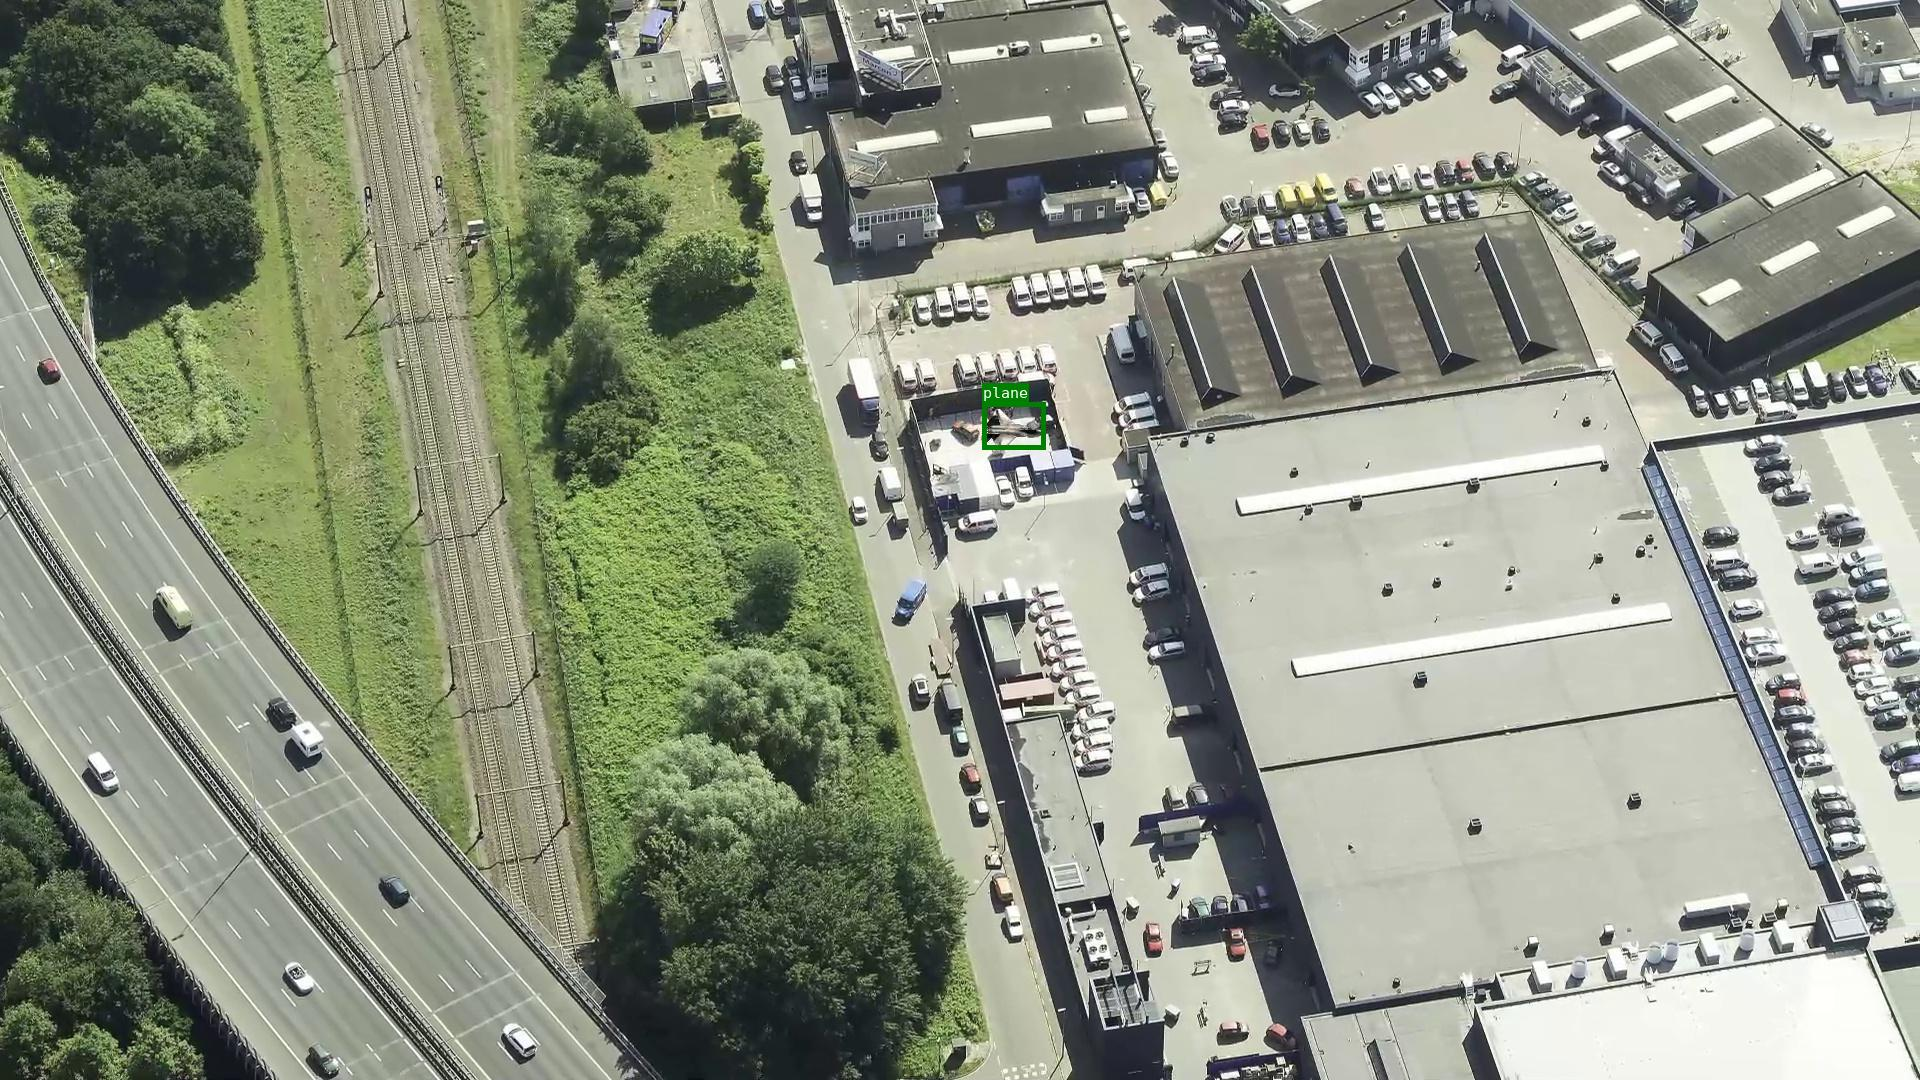plane: (982, 402, 1044, 448)
